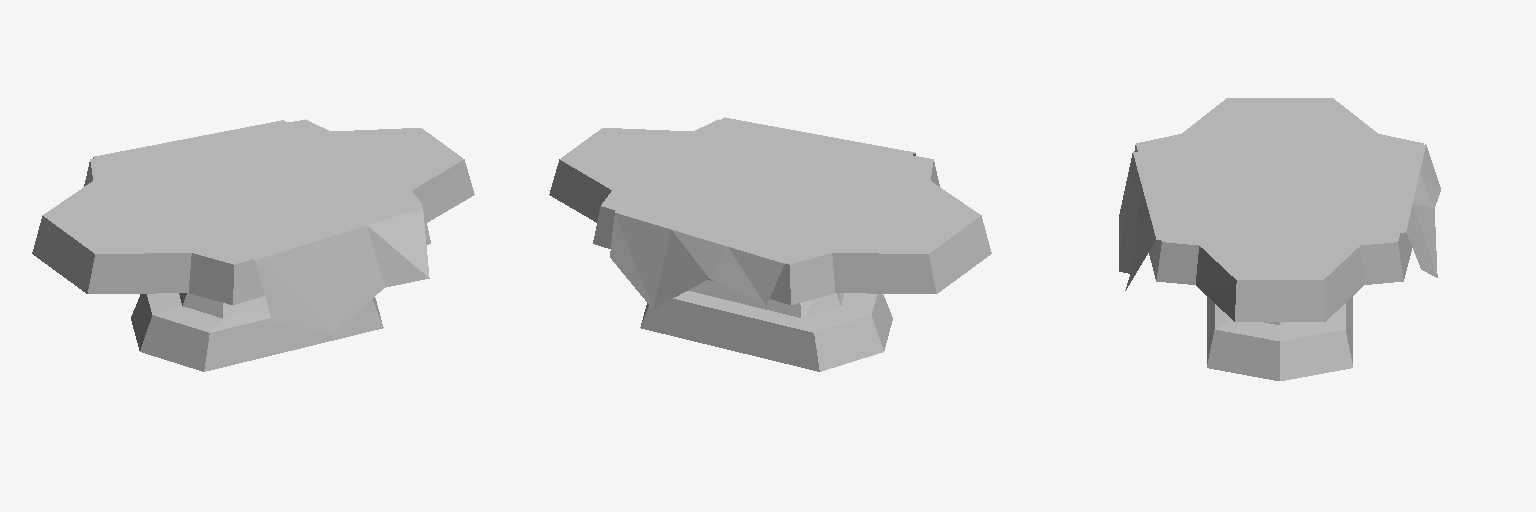
The model's file is gnometable01.obj.
The picture shows the model from 3 angles: view 1: azimuth 30°, elevation 25°; view 2: azimuth 150°, elevation 25°; view 3: azimuth 270°, elevation 25°; orthographic projection.
Parts seen in each view (by area): view 1: GnomeTable01; view 2: GnomeTable01; view 3: GnomeTable01.
Part boxes in pixels (x1,y1,x2,y2): GnomeTable01: (32, 119, 474, 371); GnomeTable01: (549, 117, 991, 371); GnomeTable01: (1119, 98, 1440, 380).
Size of the model in its own units: 3.37 by 1.11 by 2.4.